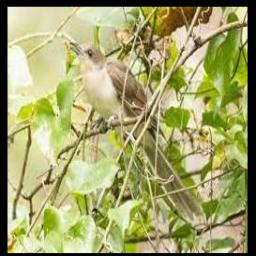Cuckoo: (70, 40, 203, 222)
